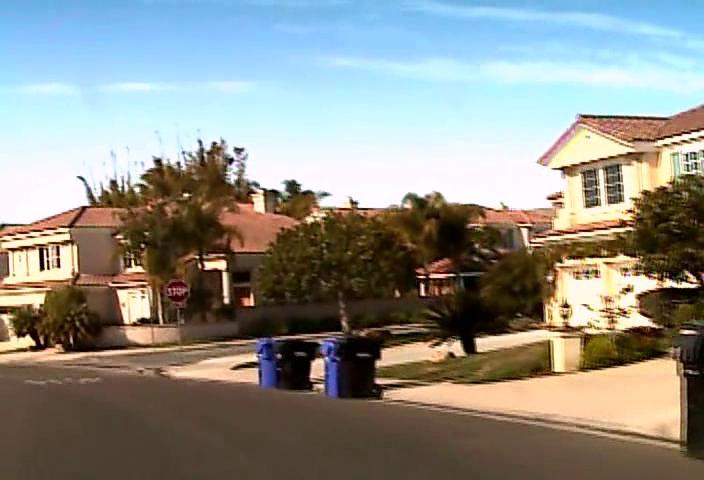stop: (164, 279, 190, 304)
